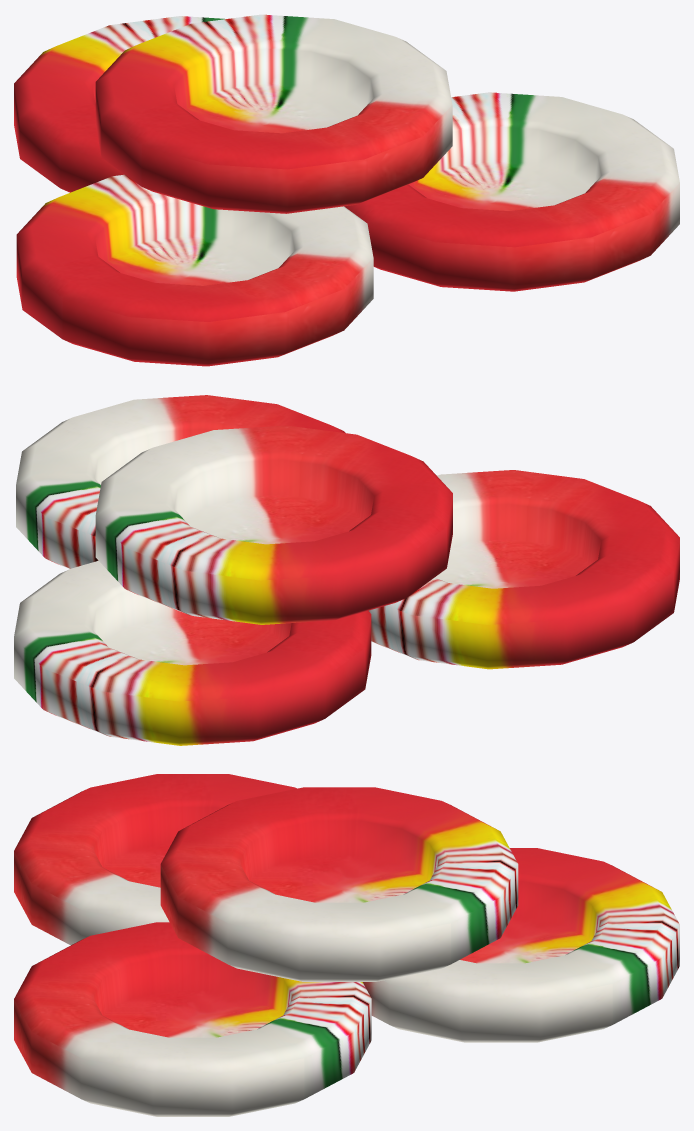
Rendered from Okchun.fbx.
3 renders of one model, top to bottom at view 1: azimuth 30°, elevation 25°; view 2: azimuth 150°, elevation 25°; view 3: azimuth 270°, elevation 25°, orthographic.
Visible parts, largest first — view 1: Cylinder.002, Cylinder, Cylinder.001, Cylinder.003; view 2: Cylinder.002, Cylinder.003, Cylinder, Cylinder.001; view 3: Cylinder.002, Cylinder.001, Cylinder.003, Cylinder.
Part boxes in pixels (<box>): Cylinder.002: <box>95,14,452,213</box>; Cylinder: <box>16,174,373,366</box>; Cylinder.001: <box>344,92,679,291</box>; Cylinder.003: <box>14,16,225,192</box>; Cylinder.002: <box>95,425,452,624</box>; Cylinder.003: <box>14,561,371,745</box>; Cylinder: <box>368,470,679,669</box>; Cylinder.001: <box>16,395,345,568</box>; Cylinder.002: <box>160,787,518,981</box>; Cylinder.001: <box>14,922,371,1116</box>; Cylinder.003: <box>363,848,679,1042</box>; Cylinder: <box>14,774,296,945</box>.
Size of the model in its own units: 139 by 26.26 by 132.
Materials: 1 (1 with a texture image).
